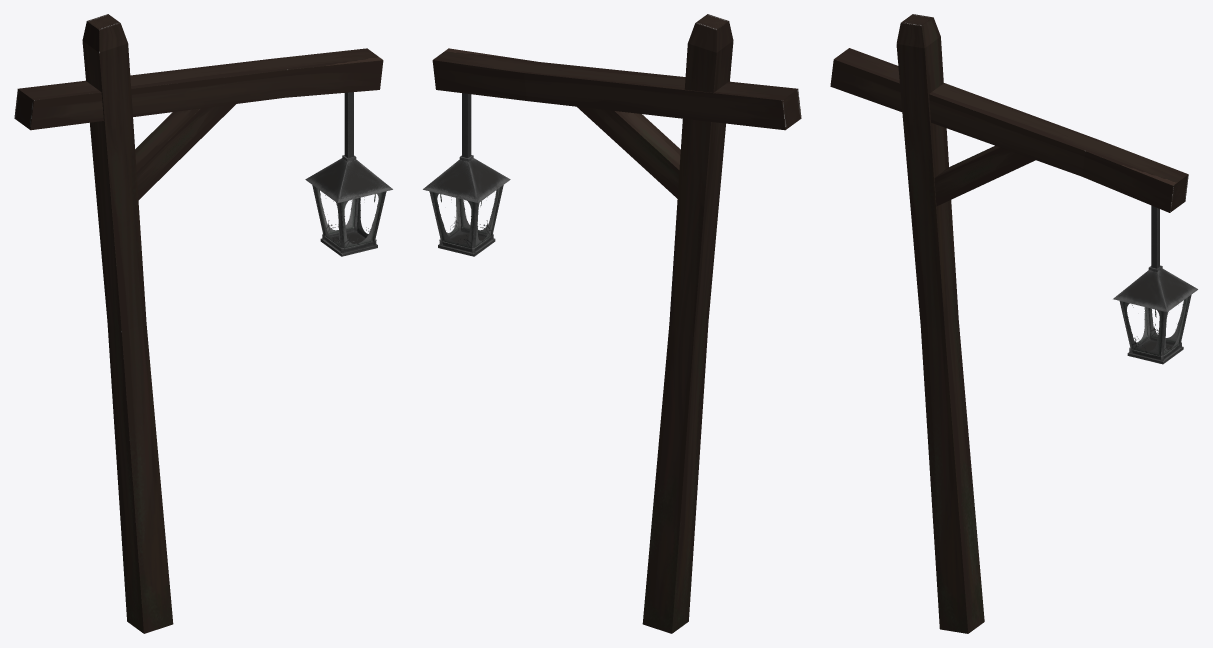
File: Lamp_Post02.fbx
3 renders of one model, left to right at view 1: azimuth 30°, elevation 25°; view 2: azimuth 150°, elevation 25°; view 3: azimuth 330°, elevation 25°, orthographic. The views are drawn at different scales.
Parts seen in each view (by area): view 1: Lamp_Post_02, Lamp_Post_Glass_02; view 2: Lamp_Post_02, Lamp_Post_Glass_02; view 3: Lamp_Post_02, Lamp_Post_Glass_02.
Boxes of the visible parts, left/top/right/bottom form: Lamp_Post_02: left=14, top=14, right=392, bottom=633; Lamp_Post_Glass_02: left=315, top=187, right=382, bottom=248; Lamp_Post_02: left=423, top=14, right=801, bottom=633; Lamp_Post_Glass_02: left=433, top=187, right=500, bottom=248; Lamp_Post_02: left=830, top=14, right=1197, bottom=633; Lamp_Post_Glass_02: left=1123, top=297, right=1188, bottom=355.
Size of the model in its own units: 2.42 by 4 by 0.3821.
Materials: 1 (1 with a texture image).
